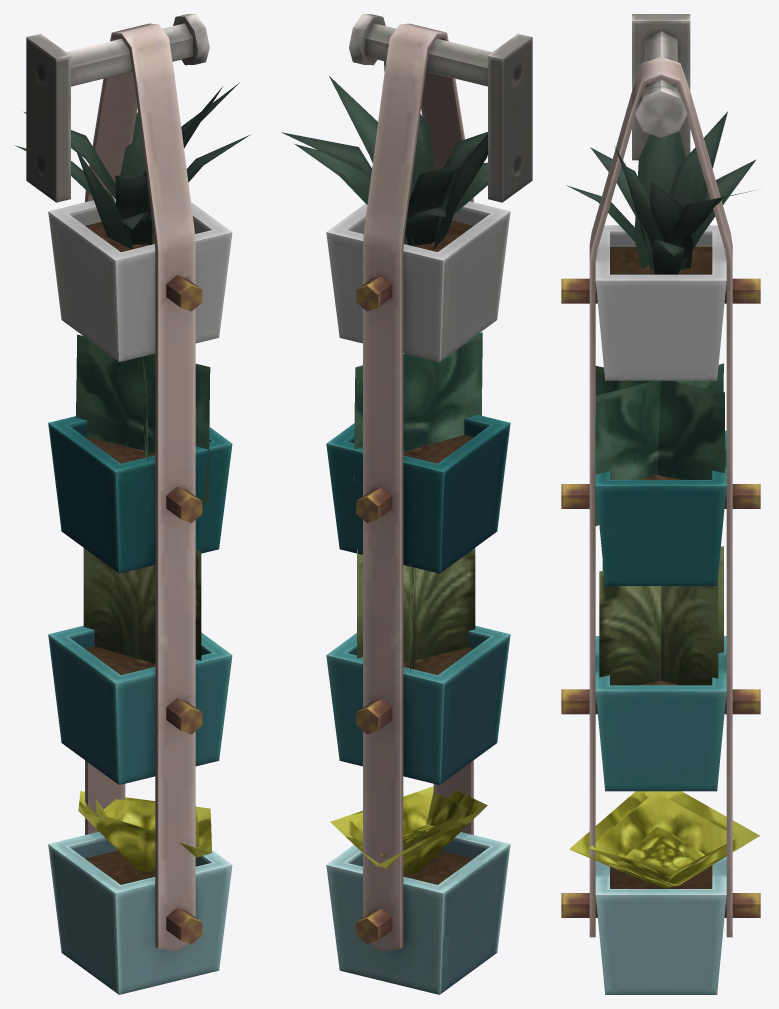
Rendered from 垂直迷你花园.glb.
3 views of the same model, side by side, from view 1: azimuth 30°, elevation 25°; view 2: azimuth 150°, elevation 25°; view 3: azimuth 270°, elevation 25° (orthographic). The views are drawn at different scales.
Visible parts, largest first — view 1: TinyLiving_VerticalMiniGarden_27; view 2: TinyLiving_VerticalMiniGarden_27; view 3: TinyLiving_VerticalMiniGarden_27.
Boxes of the visible parts, x1,y1,x2,y2 form: TinyLiving_VerticalMiniGarden_27: (15,14,250,994); TinyLiving_VerticalMiniGarden_27: (281,14,532,994); TinyLiving_VerticalMiniGarden_27: (561,14,760,994).
Bounding box in the file's own units: 0.2041 × 0.8425 × 0.1703.
1 material, 1 textured.
